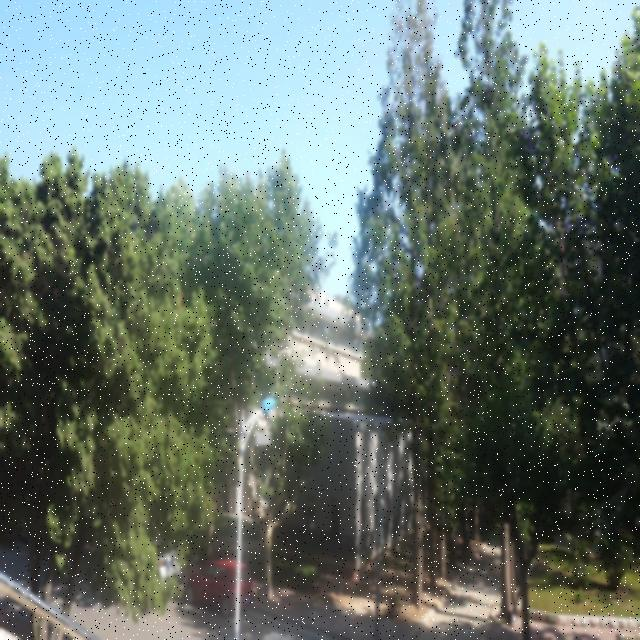UAV: (436, 465, 443, 471)
